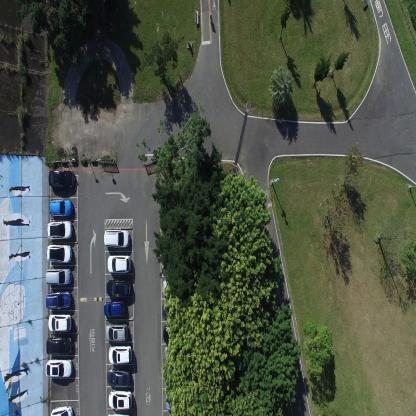car: (103, 228, 130, 249), (46, 219, 73, 240), (47, 312, 72, 334), (45, 289, 71, 310), (108, 344, 132, 366), (108, 388, 132, 410), (48, 169, 74, 189), (46, 336, 73, 355), (164, 392, 191, 411), (45, 358, 72, 377), (106, 277, 131, 297), (46, 244, 72, 263), (45, 266, 72, 284), (163, 324, 187, 344), (162, 300, 186, 320), (106, 366, 130, 386), (48, 198, 73, 217), (105, 323, 128, 343), (107, 254, 131, 273), (162, 278, 186, 297), (163, 346, 188, 364), (103, 299, 126, 318), (49, 404, 74, 415)
